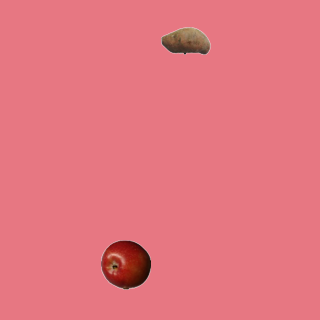Apple Braeburn: (100, 239, 150, 289)
Potato Sweet: (160, 15, 210, 65)
